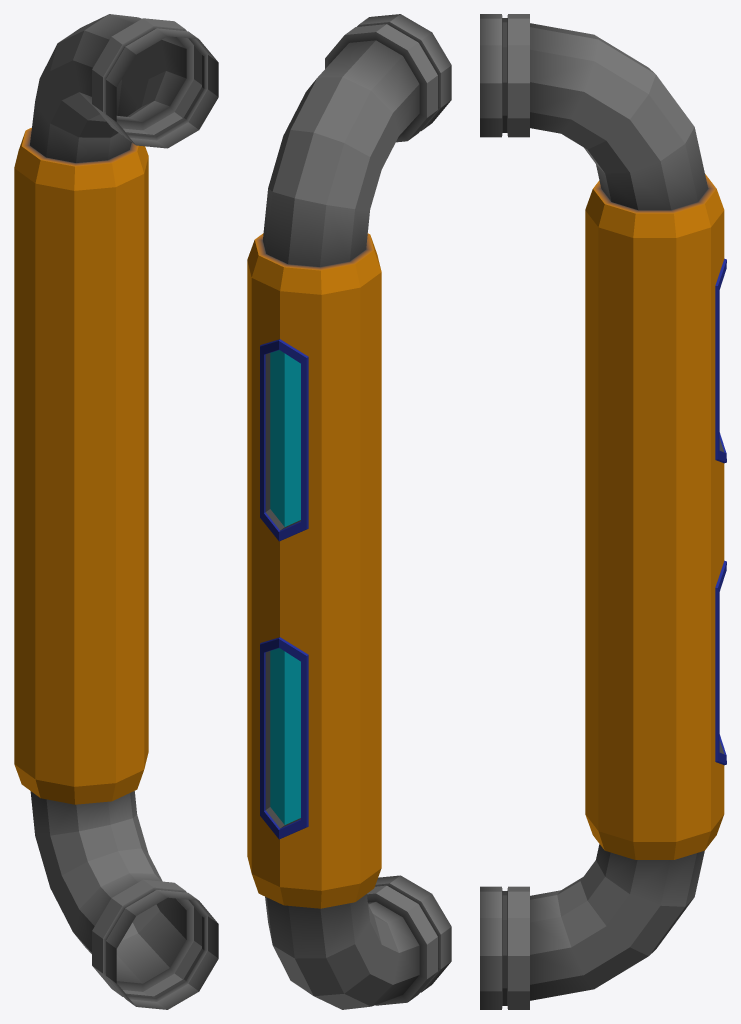
File: Pipe.fbx
3 renders of one model, left to right at view 1: azimuth 30°, elevation 25°; view 2: azimuth 150°, elevation 25°; view 3: azimuth 270°, elevation 25°, orthographic.
Parts seen in each view (by area): view 1: Pipe00; view 2: Pipe00; view 3: Pipe00.
Boxes of the visible parts, x1=… form: Pipe00: x1=14, y1=14, x2=218, y2=1009; Pipe00: x1=247, y1=14, x2=451, y2=1009; Pipe00: x1=480, y1=14, x2=726, y2=1009.
Bounding box in the file's own units: 18.57 × 153 × 34.62.
